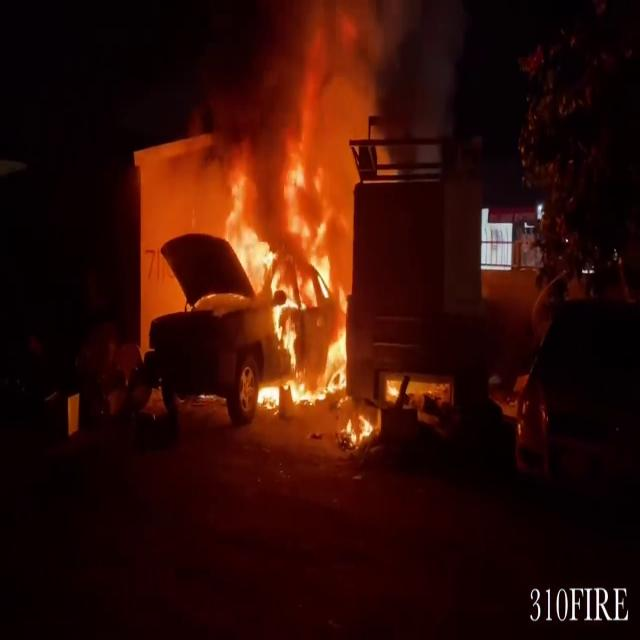Fire: (224, 140, 354, 410), (340, 402, 374, 453)
Smoke: (252, 0, 394, 162)
